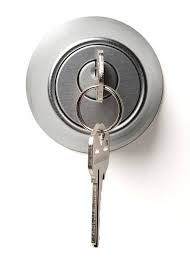key: (68, 50, 124, 253)
